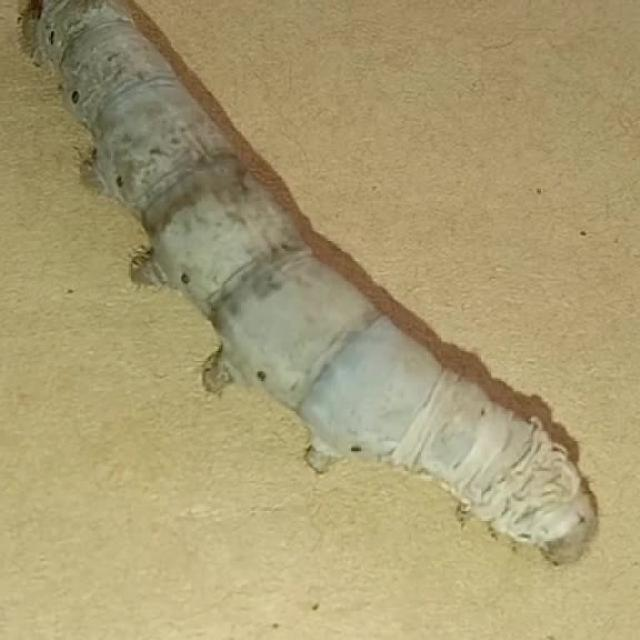Grasserie: (0, 0, 607, 581)
